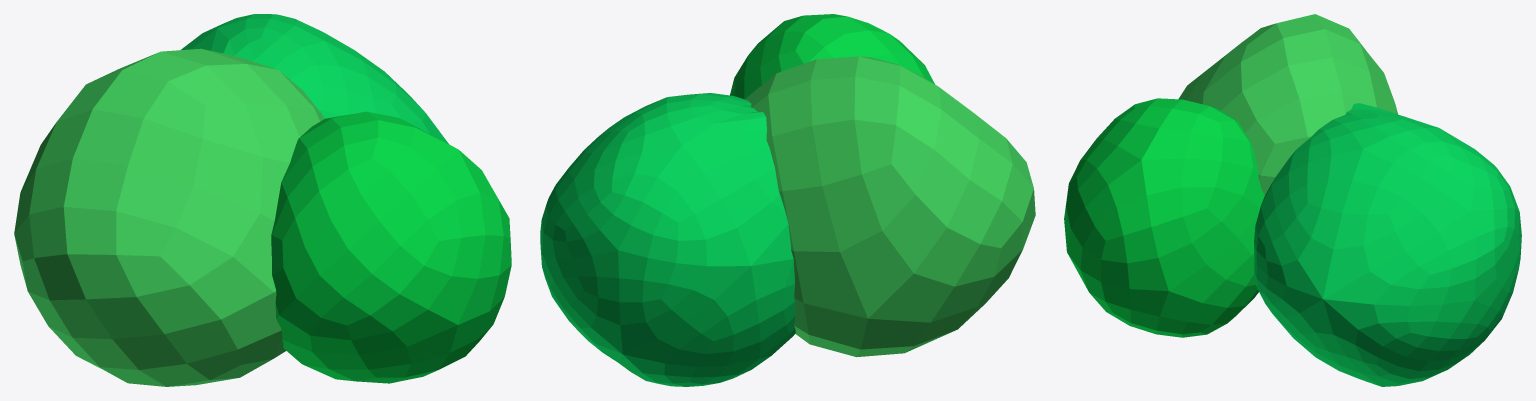
Rendered from polybush_1.fbx.
3 renders of one model, left to right at view 1: azimuth 30°, elevation 25°; view 2: azimuth 150°, elevation 25°; view 3: azimuth 270°, elevation 25°, orthographic. The views are drawn at different scales.
Parts seen in each view (by area): view 1: Icosphere.002, Icosphere, Icosphere.001; view 2: Icosphere.002, Icosphere.001, Icosphere; view 3: Icosphere.001, Icosphere, Icosphere.002.
Boxes of the visible parts, left/top/right/bottom form: Icosphere.002: left=14, top=48, right=324, bottom=386; Icosphere: left=271, top=111, right=511, bottom=383; Icosphere.001: left=180, top=14, right=448, bottom=143; Icosphere.002: left=745, top=56, right=1035, bottom=357; Icosphere.001: left=540, top=93, right=795, bottom=386; Icosphere: left=730, top=14, right=934, bottom=99; Icosphere.001: left=1254, top=103, right=1521, bottom=386; Icosphere: left=1064, top=98, right=1264, bottom=337; Icosphere.002: left=1178, top=14, right=1397, bottom=195.
Size of the model in its own units: 286 by 204 by 295.
